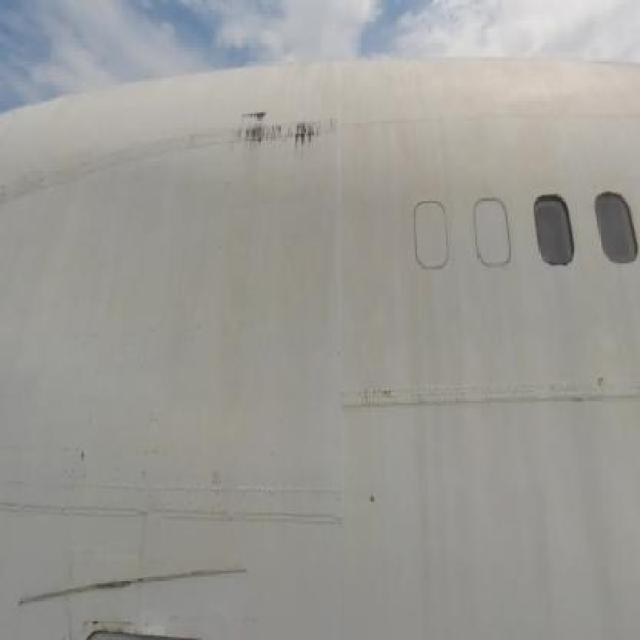Rust: (226, 90, 357, 162)
Scartch: (576, 366, 613, 403), (64, 435, 98, 470)
